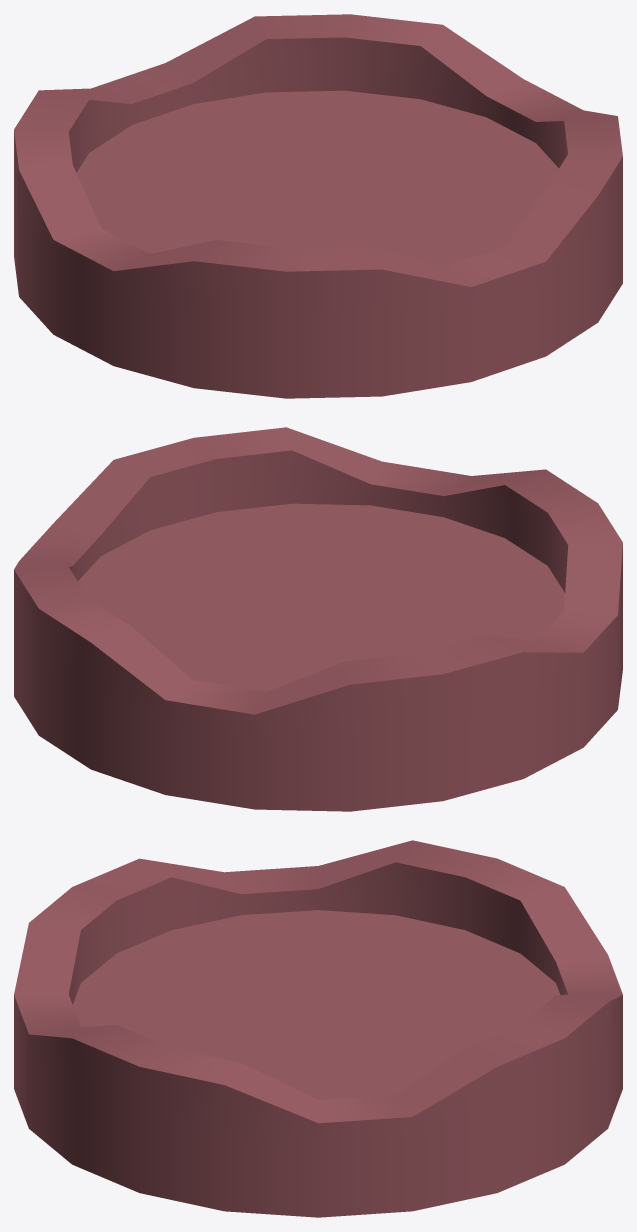
The model's file is ashTray.fbx.
3 views of the same model, one above another, from view 1: azimuth 30°, elevation 25°; view 2: azimuth 150°, elevation 25°; view 3: azimuth 270°, elevation 25° (orthographic).
Visible parts, largest first — view 1: Ashtray; view 2: Ashtray; view 3: Ashtray.
Boxes of the visible parts, x1,y1,x2,y2 form: Ashtray: (14, 14, 622, 398); Ashtray: (14, 427, 622, 811); Ashtray: (14, 840, 622, 1217).
Size of the model in its own units: 33.54 by 33.54 by 7.67.
